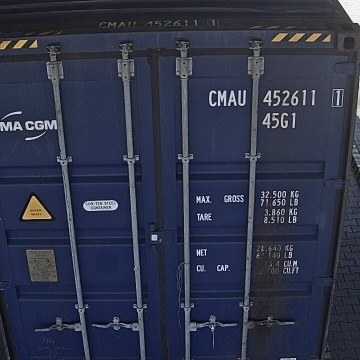serial_id: (208, 89, 343, 106)
